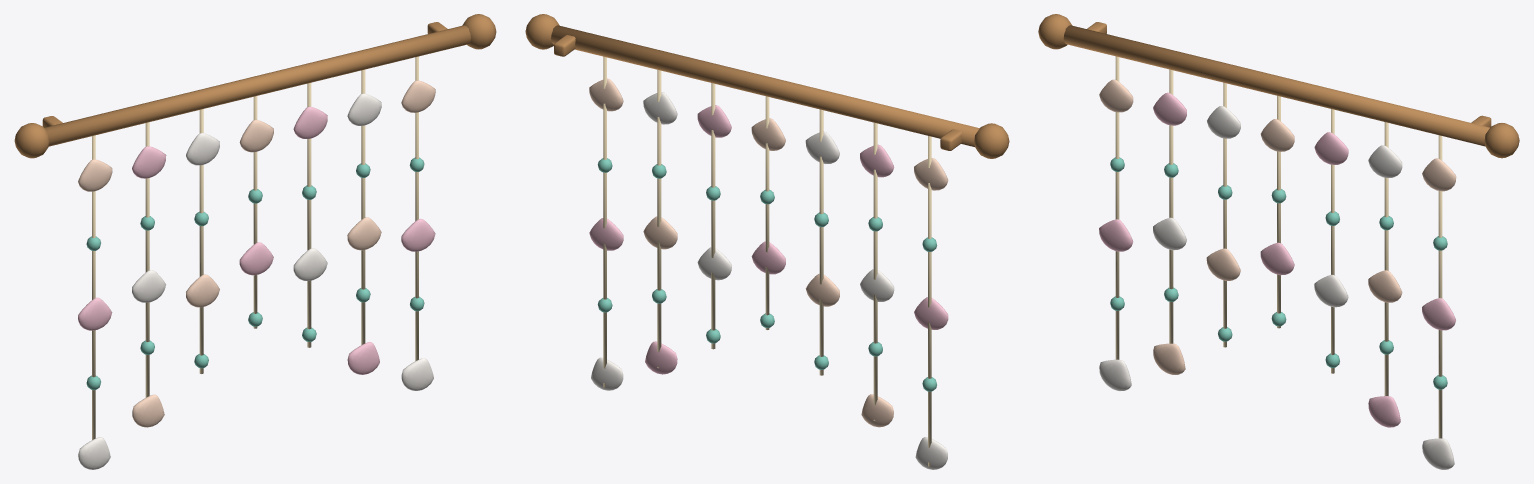
The model's file is shell-curtain.glb.
3 renders of one model, left to right at view 1: azimuth 30°, elevation 25°; view 2: azimuth 150°, elevation 25°; view 3: azimuth 330°, elevation 25°, orthographic.
Visible parts, largest first — view 1: curtain; view 2: curtain; view 3: curtain.
Part boxes in pixels (box(x1,y1,x2,y2)): curtain: box(14, 14, 496, 469); curtain: box(525, 14, 1009, 469); curtain: box(1038, 14, 1519, 469).
Bounding box in the file's own units: 1.24 × 0.8916 × 0.11.
